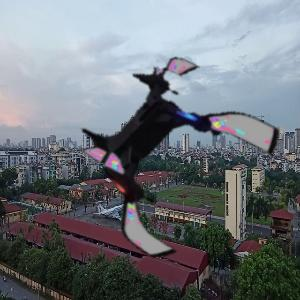drone: (68, 59, 270, 261)
